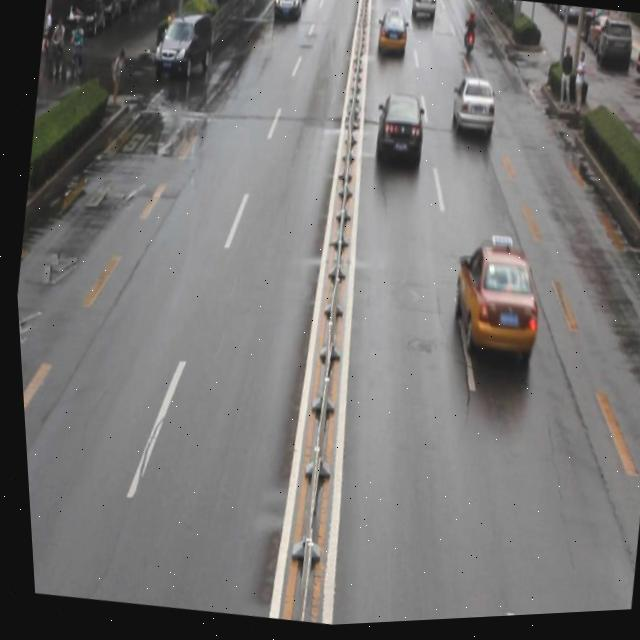car: (437, 233, 545, 378), (366, 94, 428, 181), (446, 83, 497, 150)
truck: (151, 16, 218, 85)
